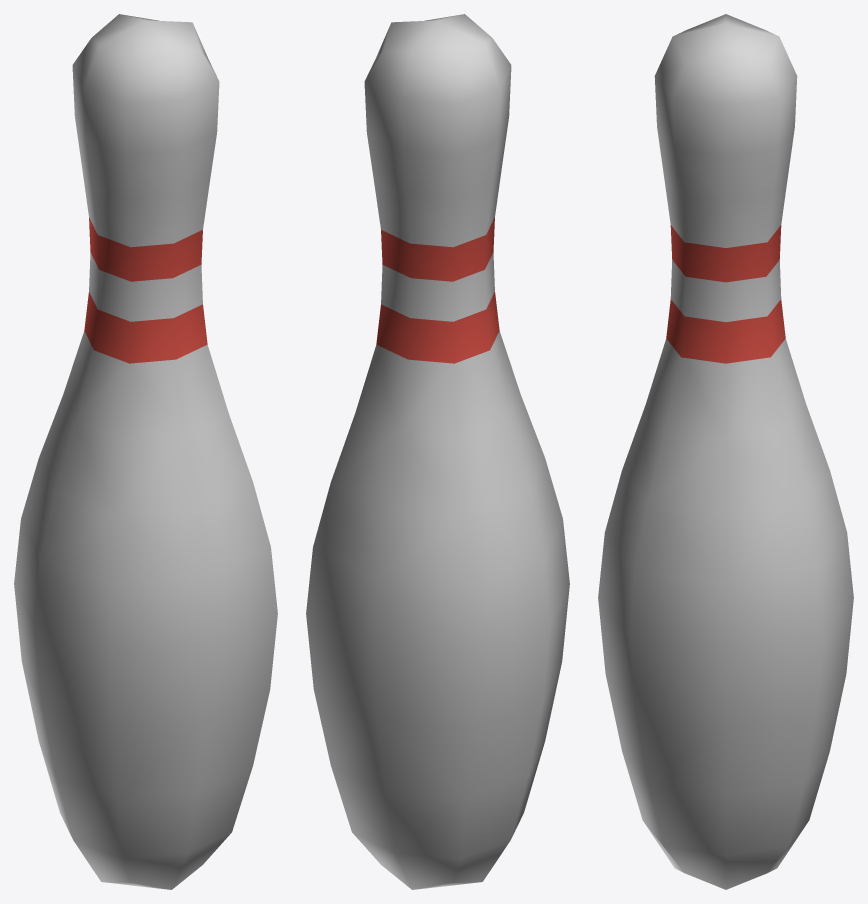
The model's file is BowlingPin.fbx.
The picture shows the model from 3 angles, left to right: view 1: azimuth 30°, elevation 25°; view 2: azimuth 150°, elevation 25°; view 3: azimuth 270°, elevation 25°; orthographic projection.
Parts seen in each view (by area): view 1: Cube; view 2: Cube; view 3: Cube.
Part boxes in pixels (<box>): Cube: <box>14,14,277,889</box>; Cube: <box>306,14,569,889</box>; Cube: <box>598,14,853,889</box>.
Size of the model in its own units: 28.33 by 105 by 28.33.
